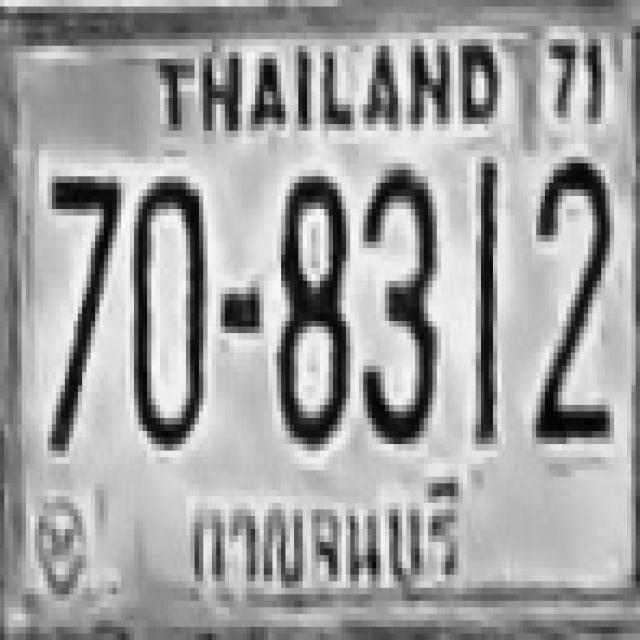0: (130, 170, 203, 444)
1: (472, 160, 498, 441)
2: (532, 153, 610, 441)
3: (359, 160, 432, 434)
7: (47, 170, 116, 444)
8: (272, 170, 346, 438)
Kanchanaburi: (177, 463, 485, 615)
